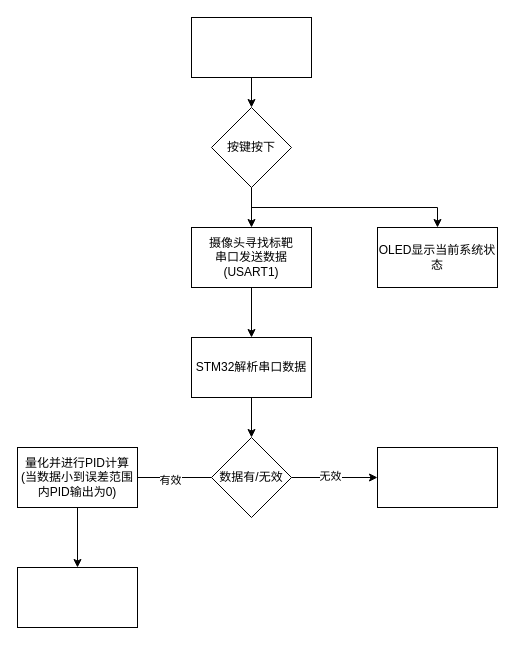
Some shapes in this 515 by 645 pixel diagram are drawn without their labels. The shapes that lost their labels are listed below. From the top down, each one's box as (x1, y1, x2, y2) in pixels, then its label:
(190, 16, 312, 78): 上电
(376, 446, 498, 508): 电机锁死，等待标靶出现在摄像头可视范围内
(16, 566, 138, 628): 根据PID的输出 控制电机速度
